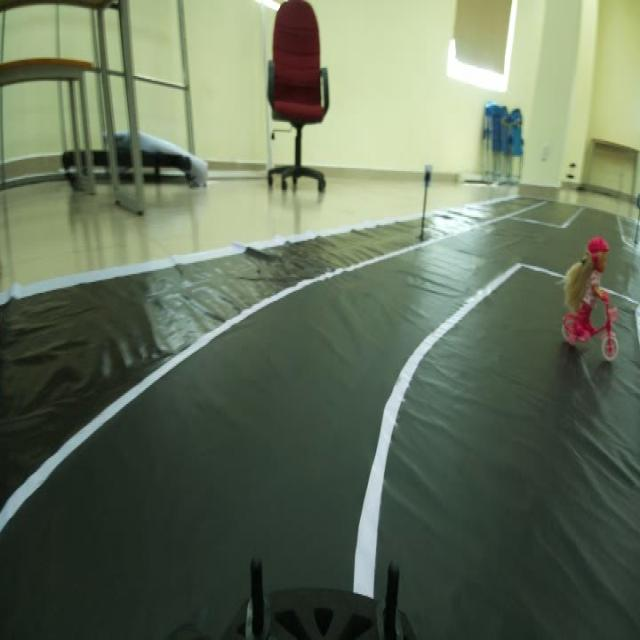pedestrian: (565, 228, 617, 352)
